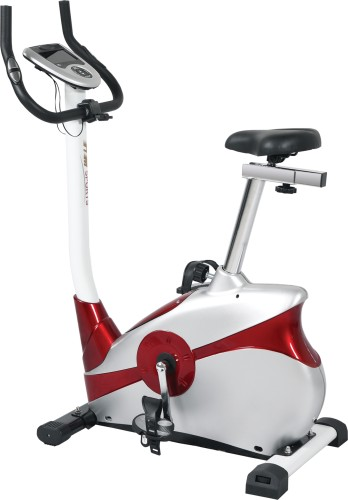gym_bike: (1, 1, 346, 495)
